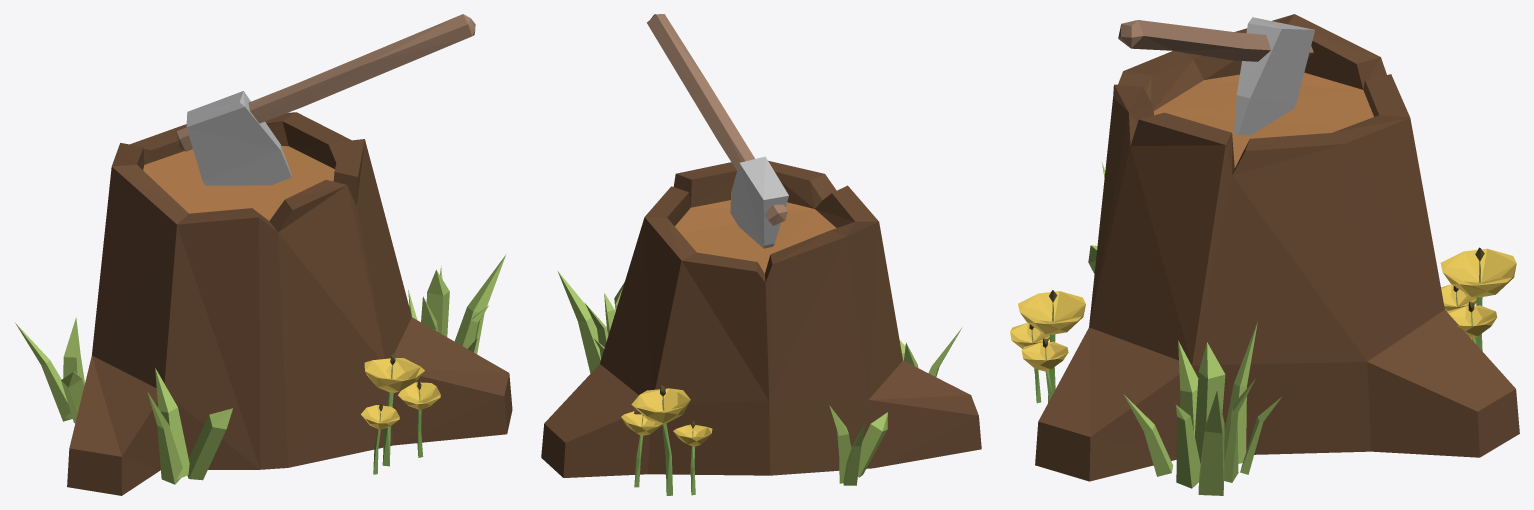
File: stump-05.glb
The picture shows the model from 3 angles, left to right: view 1: azimuth 30°, elevation 25°; view 2: azimuth 150°, elevation 25°; view 3: azimuth 270°, elevation 25°; orthographic projection. The views are drawn at different scales.
Parts seen in each view (by area): view 1: Stump6; view 2: Stump6; view 3: Stump6.
Boxes of the visible parts, x1,y1,x2,y2 form: Stump6: (15,14,512,495); Stump6: (541,14,981,495); Stump6: (1010,14,1519,495).
Size of the model in its own units: 2.11 by 1.74 by 1.76.
